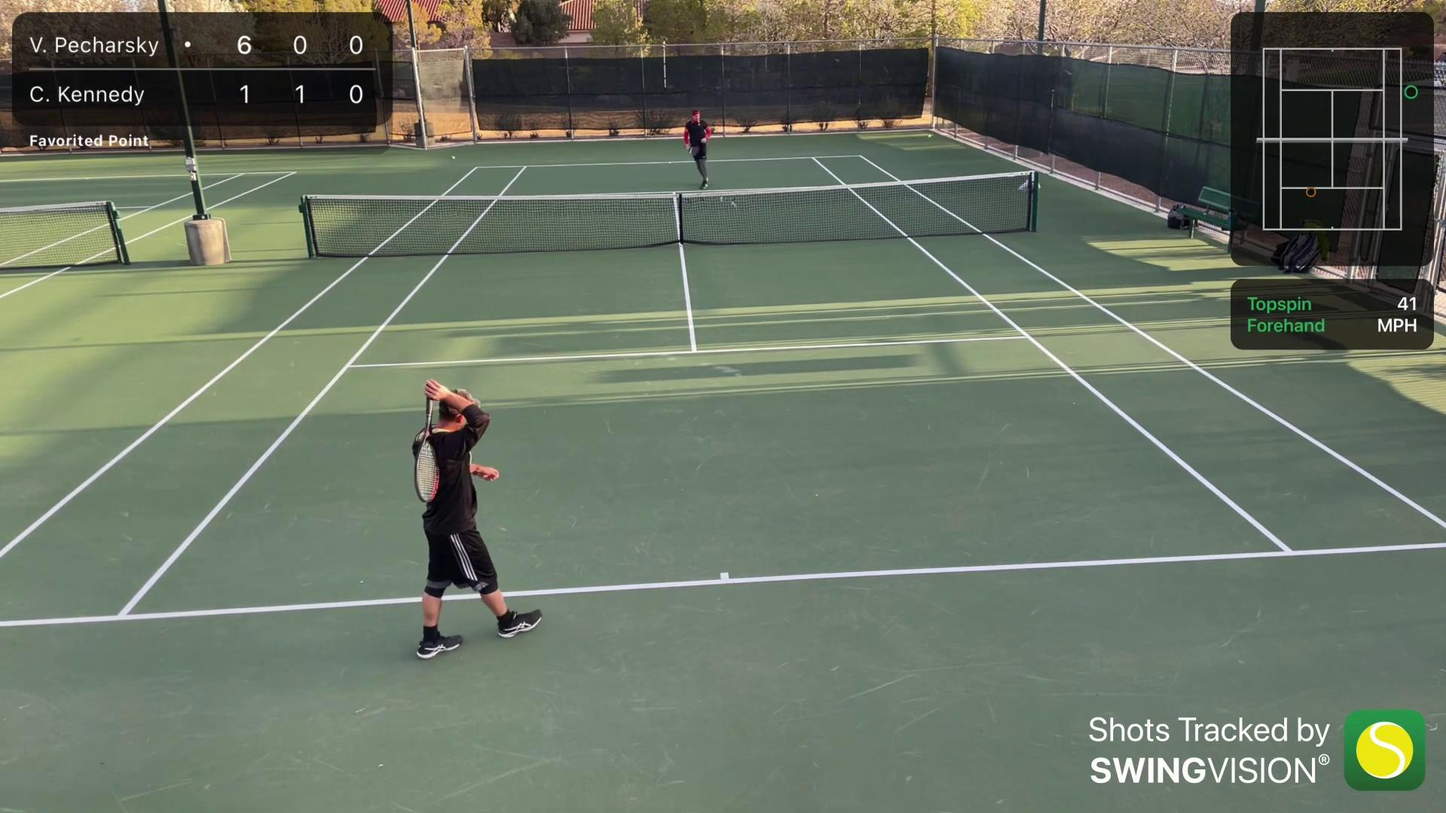ball: (926, 131, 933, 140), (449, 155, 457, 161)
